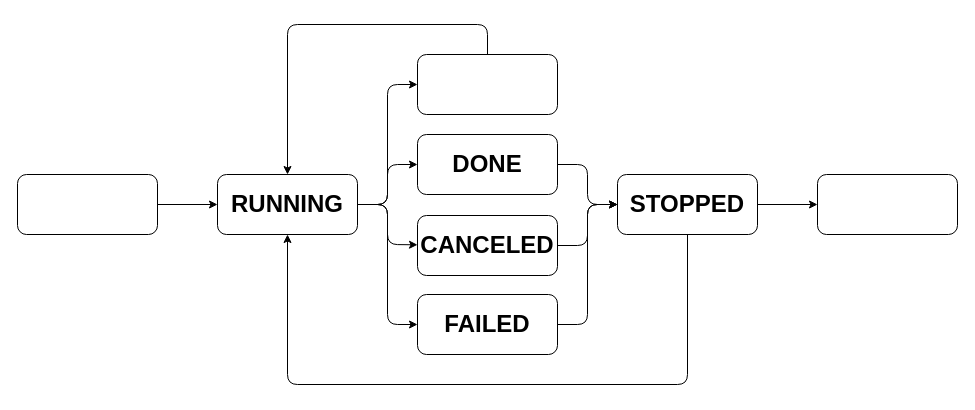
The diagram is 975 pixels wide and 410 high, and some of its shapes have lost their labels. Here are the shapes that lost their labels. From the top down, the centre of each, then its label:
At pixel 487 84: "PAUSED".
At pixel 87 204: "CREATED".
At pixel 887 204: "DISPOSED".
